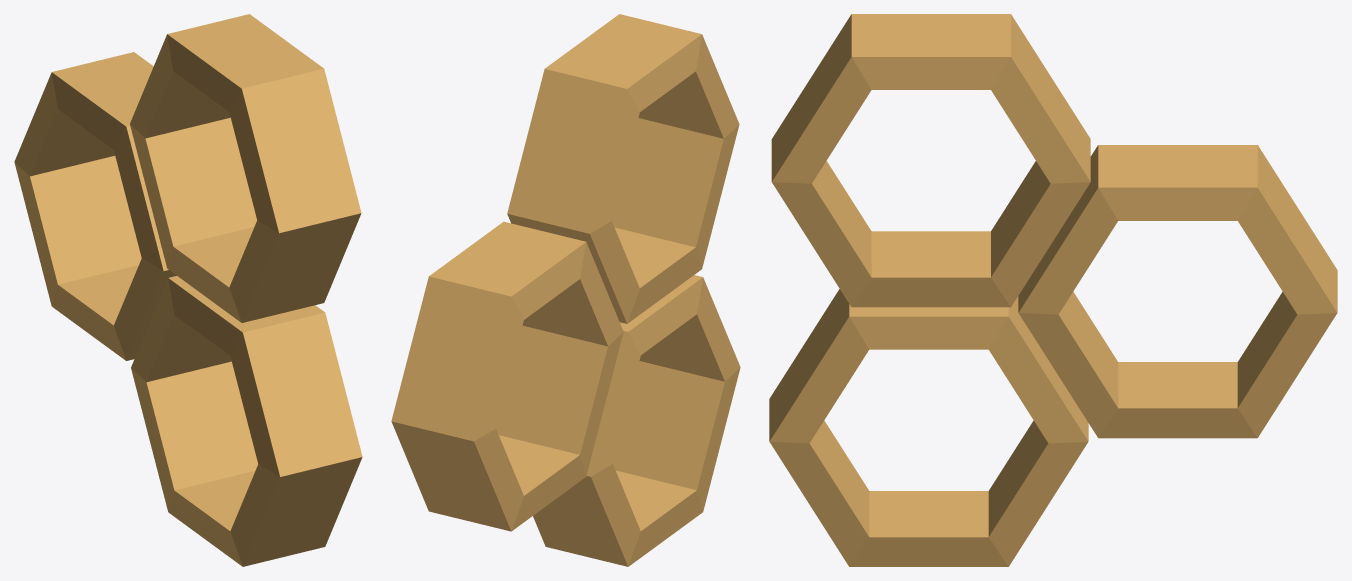
Rendered from HoneyCombShelf.fbx.
3 renders of one model, left to right at view 1: azimuth 30°, elevation 25°; view 2: azimuth 150°, elevation 25°; view 3: azimuth 270°, elevation 25°, orthographic. The views are drawn at different scales.
Visible parts, largest first — view 1: Cylinder.004; view 2: Cylinder.004; view 3: Cylinder.004.
Part boxes in pixels (bbox=[...]): Cylinder.004: bbox=[14, 14, 362, 566]; Cylinder.004: bbox=[391, 14, 740, 566]; Cylinder.004: bbox=[769, 14, 1337, 566].
Bounding box in the file's own units: 44.78 × 230 × 232.
